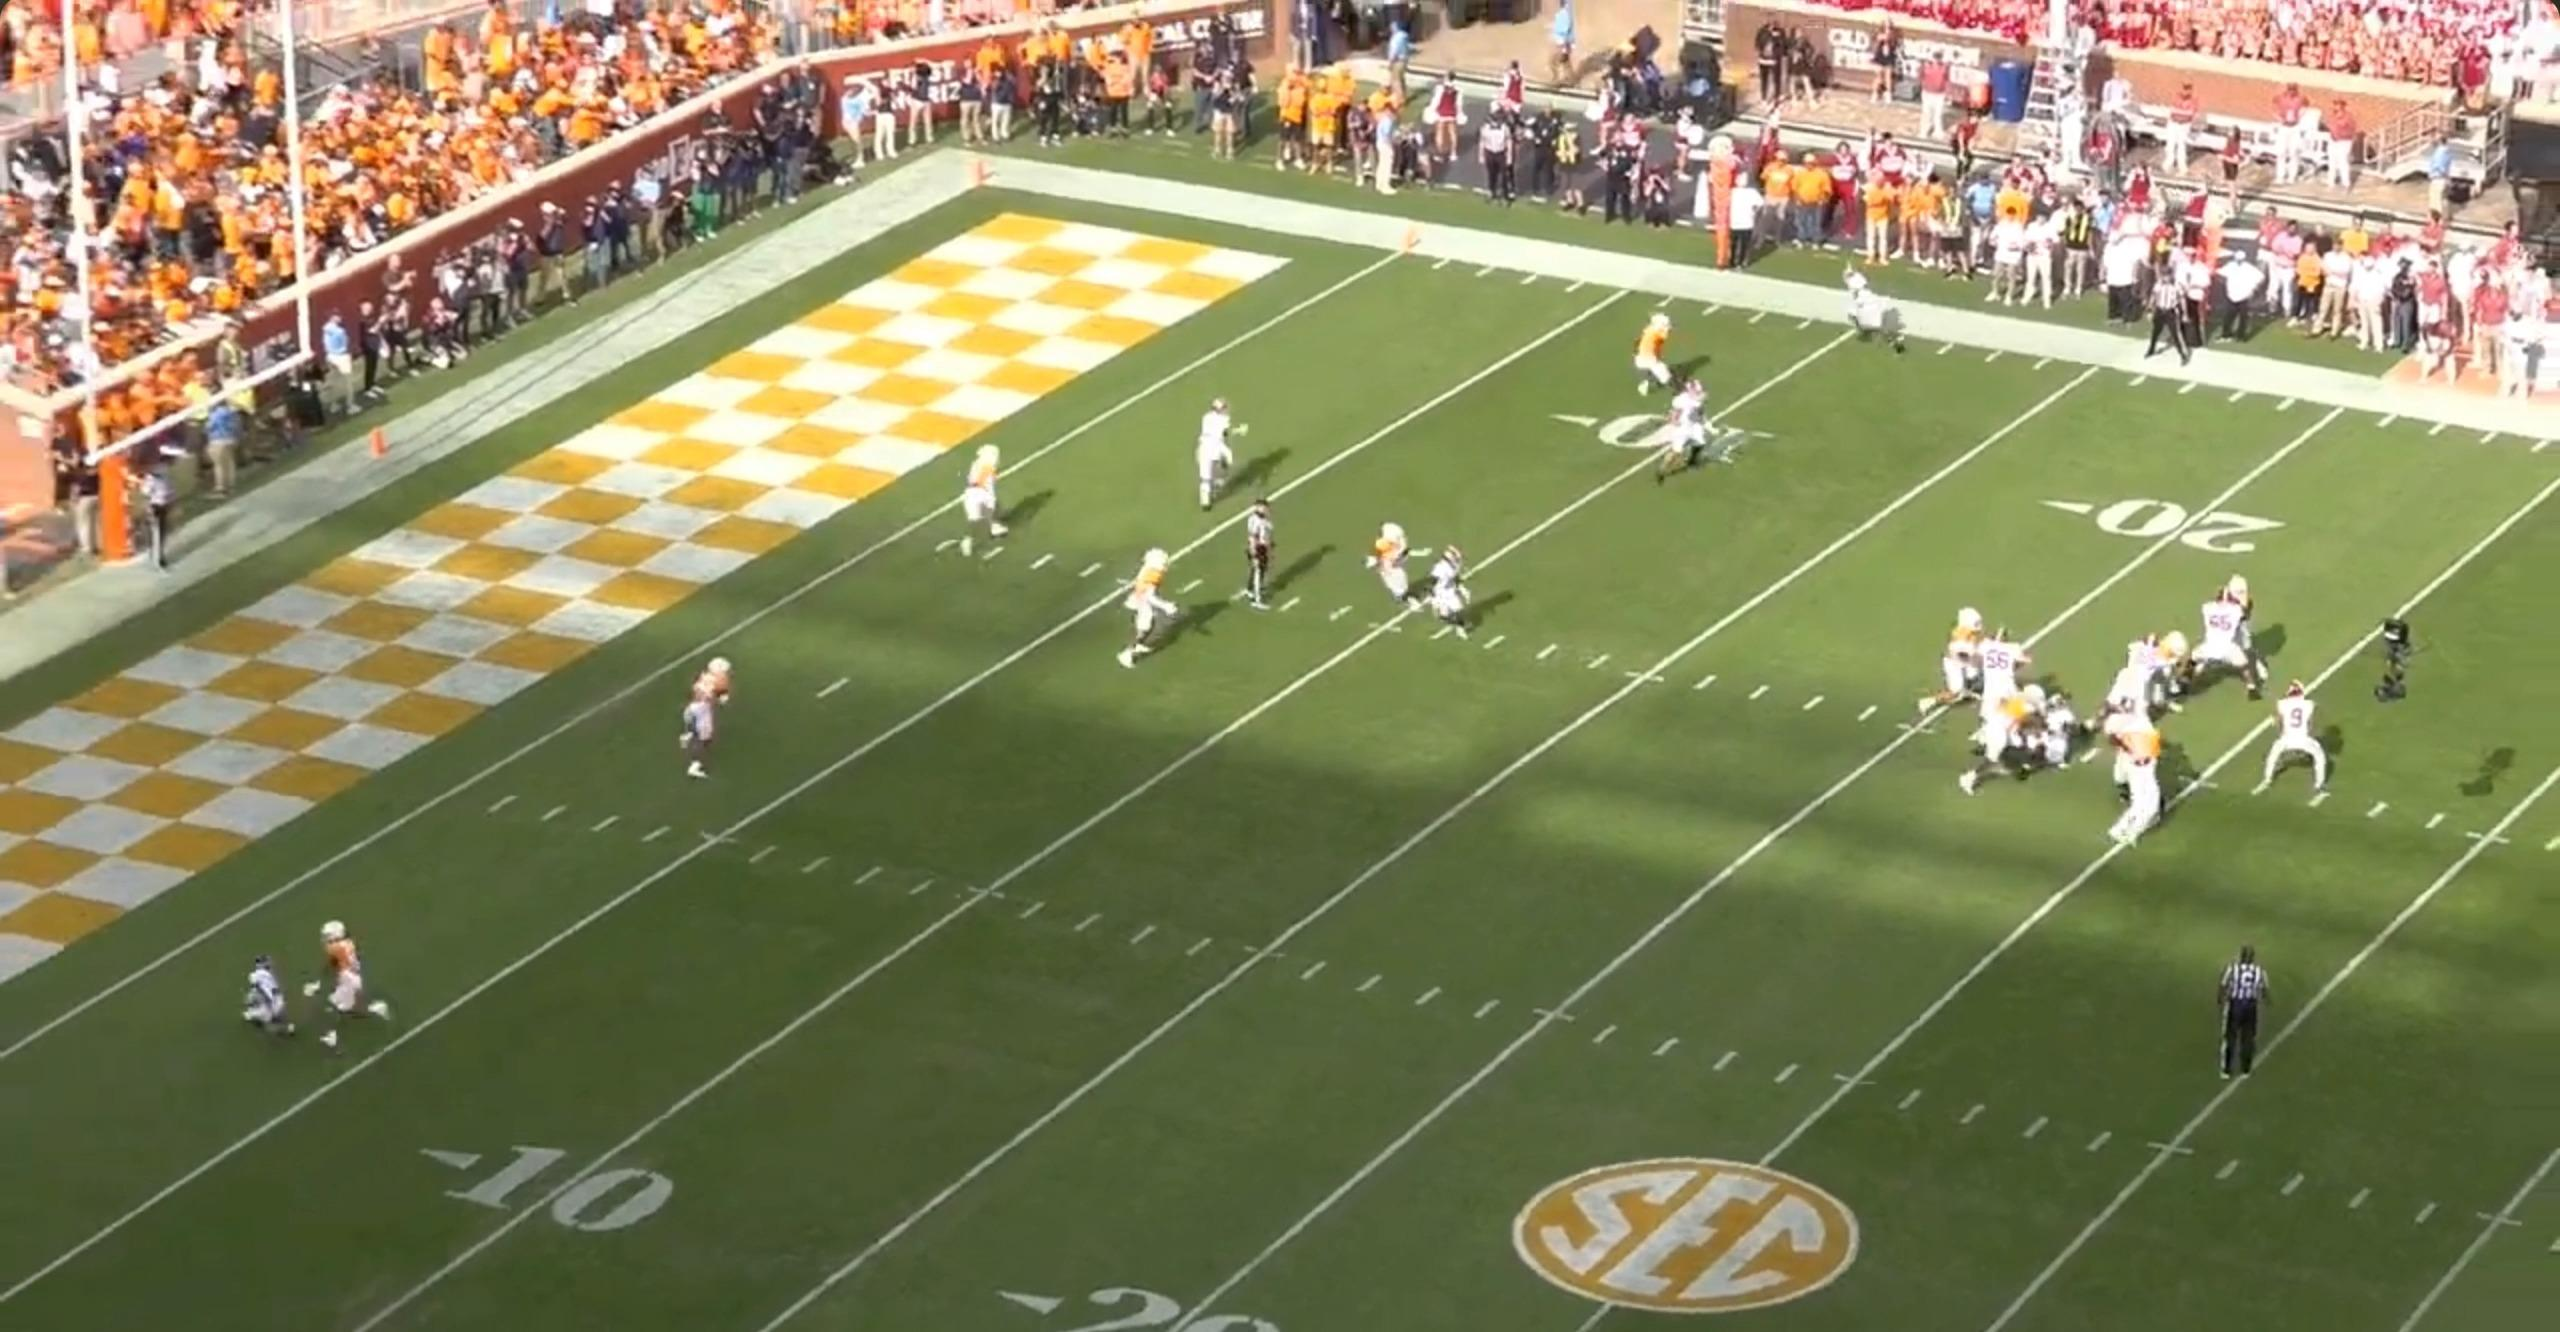defense: (314, 917, 400, 1053), (2188, 571, 2275, 682), (1952, 673, 2027, 800), (2109, 723, 2174, 852), (1117, 547, 1181, 675), (671, 657, 733, 787), (1929, 606, 1985, 717), (1367, 518, 1429, 614), (955, 440, 1004, 549), (1624, 309, 1679, 406), (2152, 627, 2189, 717)
oline: (2181, 599, 2262, 704), (2099, 634, 2177, 722), (2009, 691, 2088, 777), (2103, 695, 2163, 807), (1978, 628, 2052, 699)
qb: (2256, 680, 2341, 803)
ref: (2205, 945, 2270, 1085), (132, 453, 187, 583), (2132, 258, 2191, 367), (1239, 495, 1285, 610)
skill: (1650, 378, 1716, 490), (1195, 397, 1249, 516), (238, 948, 304, 1045), (1420, 542, 1479, 640), (1848, 266, 1914, 353)
